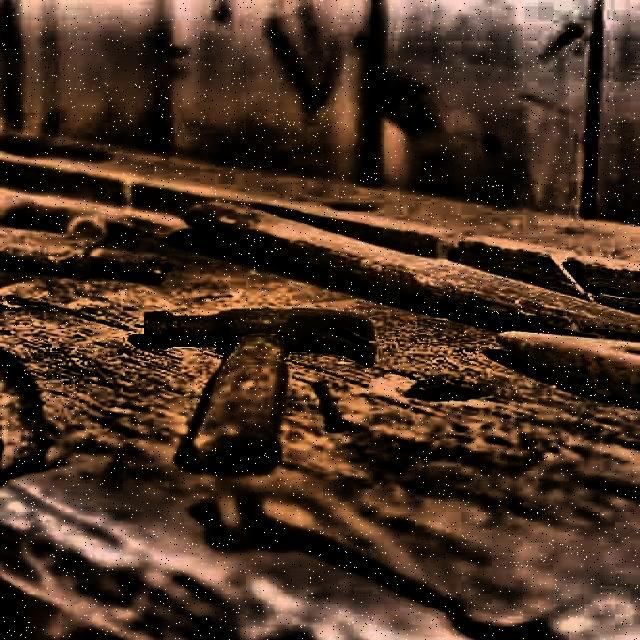hammer: (146, 307, 378, 471)
